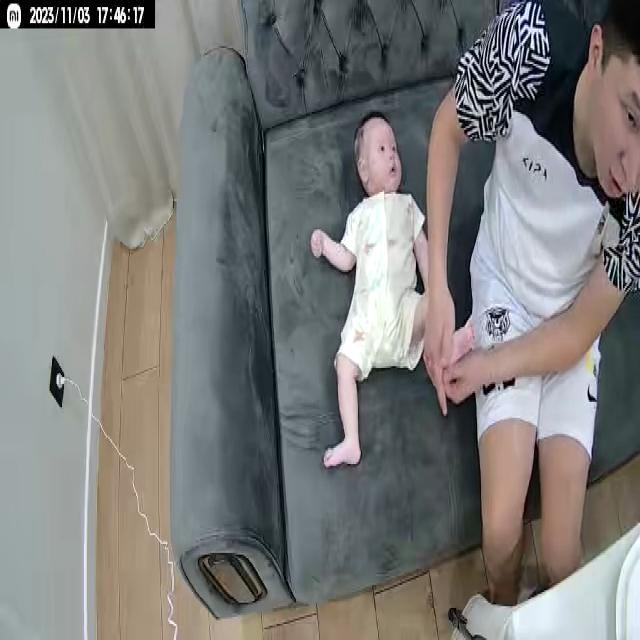baby: (307, 110, 479, 474)
